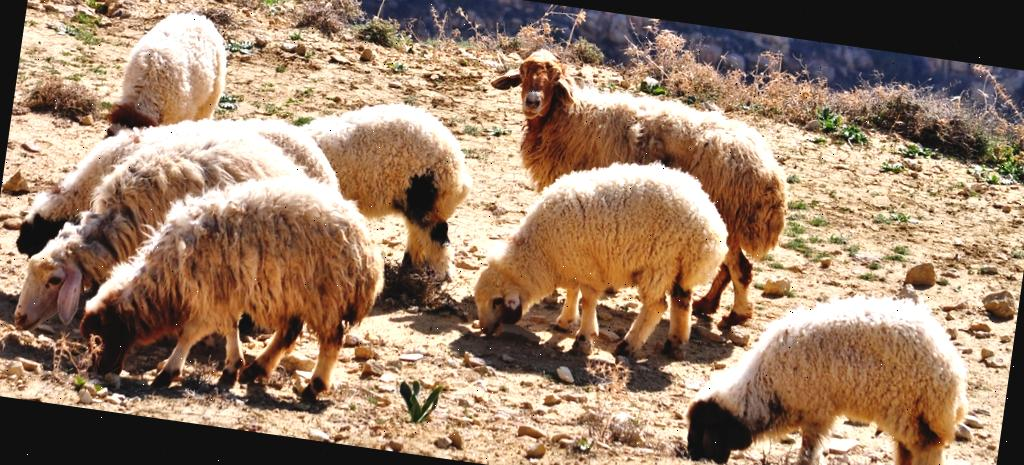Sheep: (460, 41, 800, 324), (59, 146, 394, 421), (2, 106, 338, 374), (18, 80, 348, 302), (458, 140, 744, 380), (194, 76, 482, 312), (665, 276, 990, 465), (70, 0, 245, 152)
